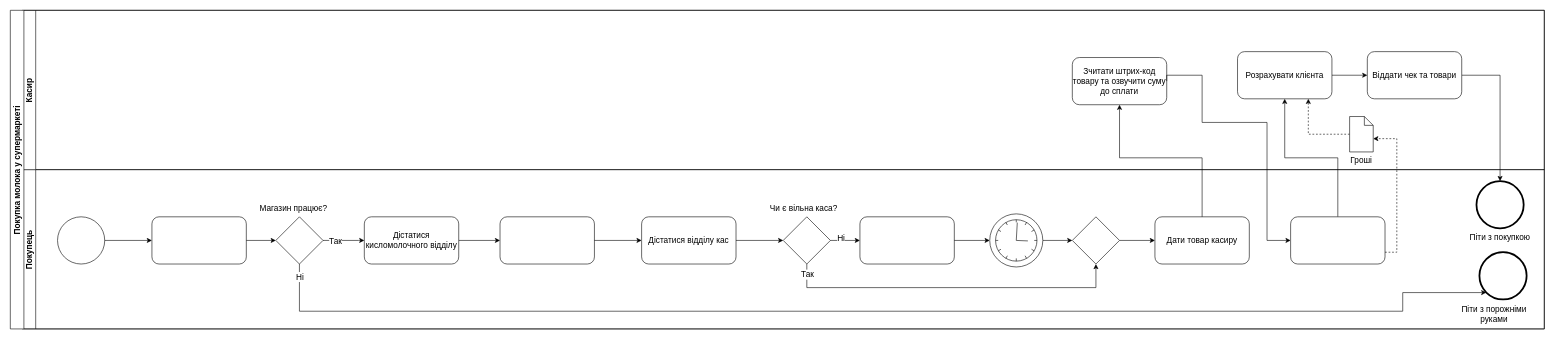
The diagram is 1555 pixels wide and 339 high, and some of its shapes have lost their labels. The centre of each missing label's shape, as x and y in pixels:
"Взяти пакет молока" belongs at point 546,240.
"Встати у чергу" belongs at point 906,240.
"Дати гроші" belongs at point 1337,240.
"Дістатися магазину" belongs at point 198,240.
